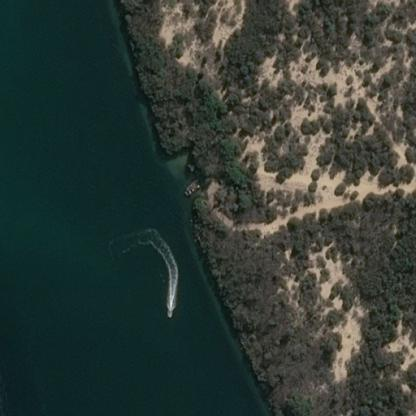ship: (163, 302, 177, 321)
